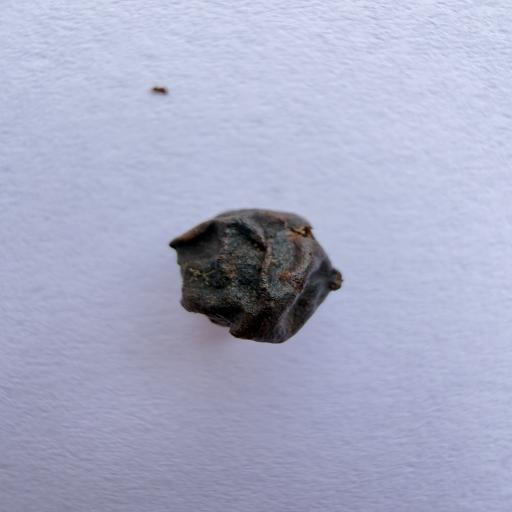Black_pepper: (127, 191, 386, 362)
